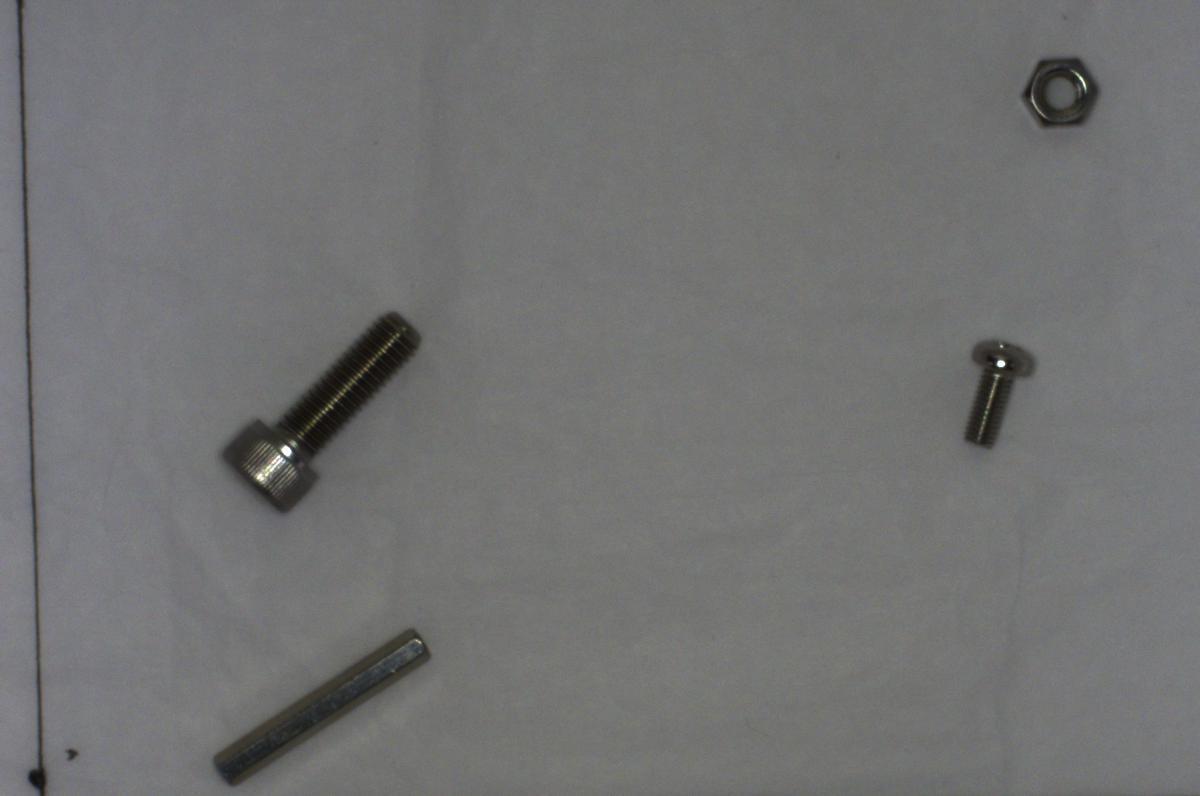Double hexagonal column: (198, 615, 442, 789)
Hexagon nut: (1017, 42, 1106, 133)
Hexagon screw: (212, 299, 430, 509)
Round head screw: (951, 326, 1040, 458)
